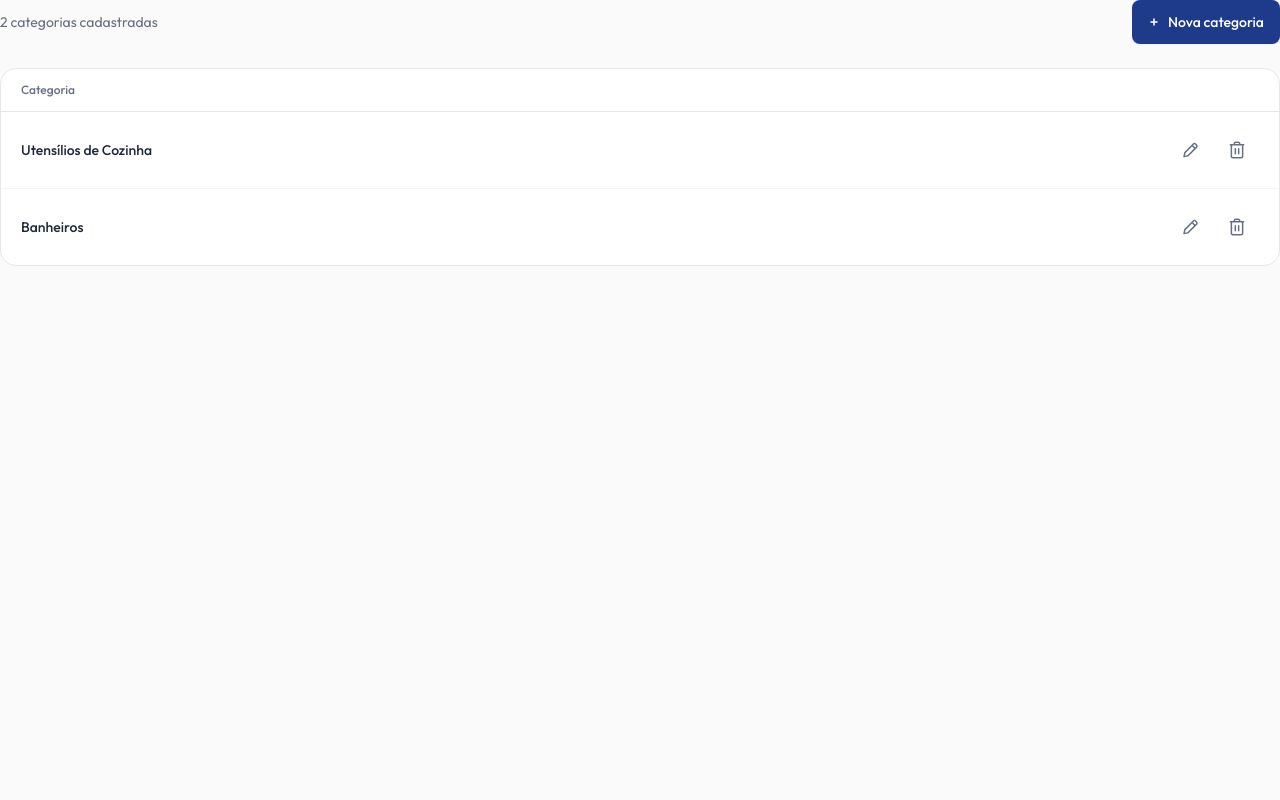
Test: CategoryAdminPanel › renames the category in the api and shows the saved name when reopened
This screenshot has width=1280, height=800.
Click the button named "Editar Banheiros": (1189, 227) [1167,205,1211,249]
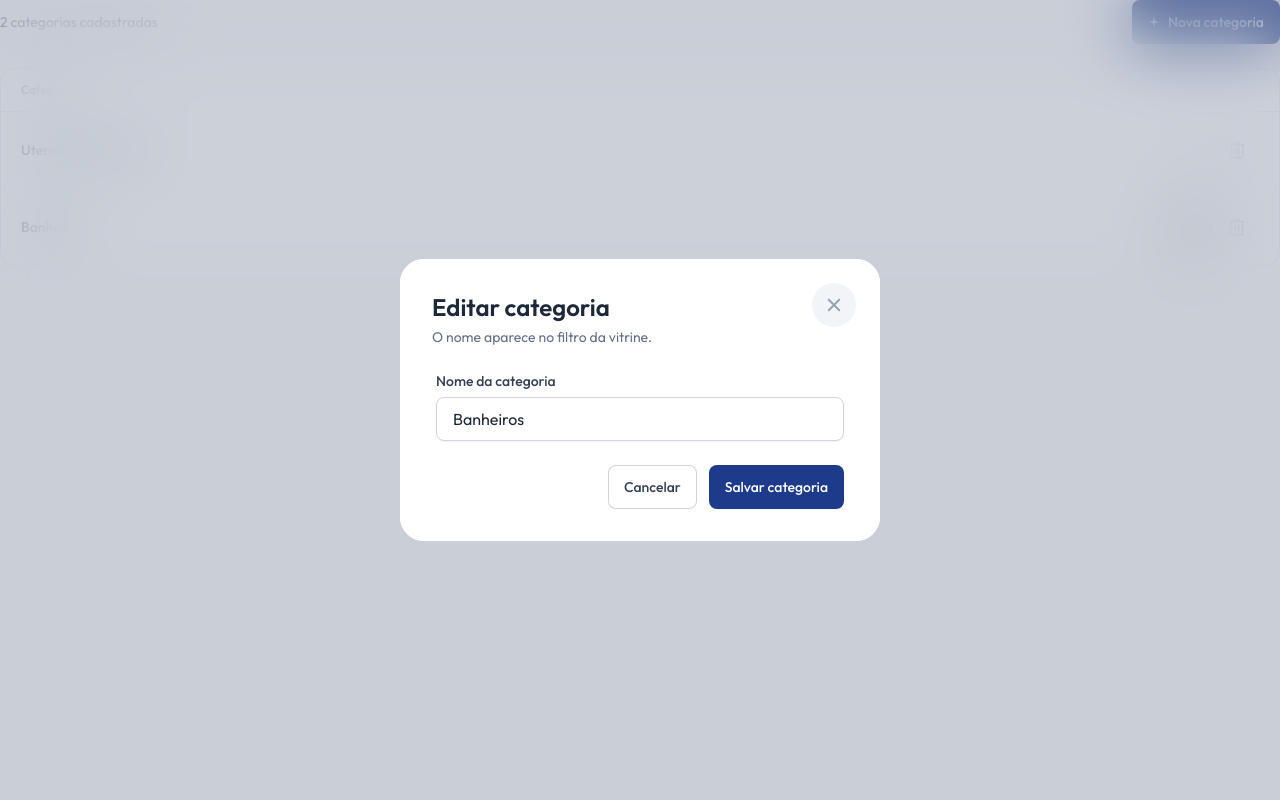
Replace the text in the field labelled "Nome da categoria" with "Banheiro e Lavabo": (640, 419) [436,397,844,441]
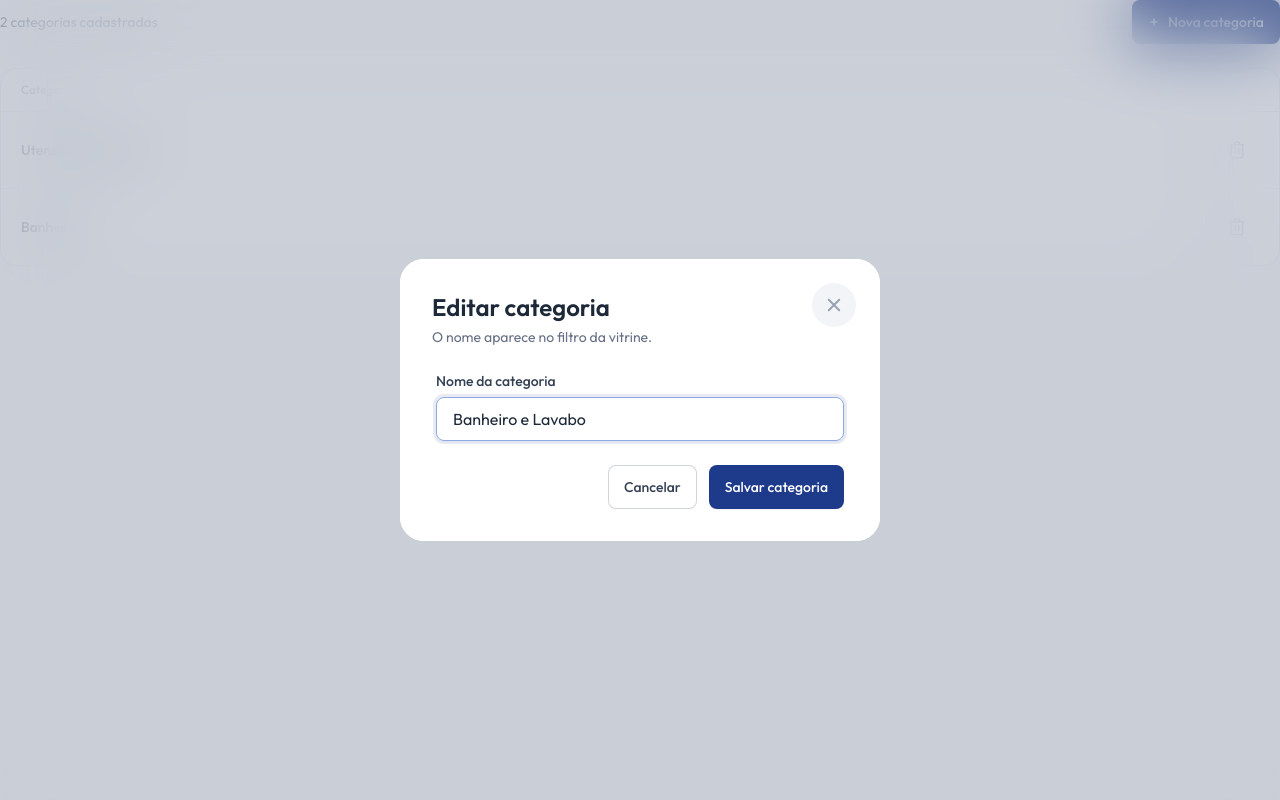
Click the button "Salvar categoria": (776, 487) [709,465,844,509]
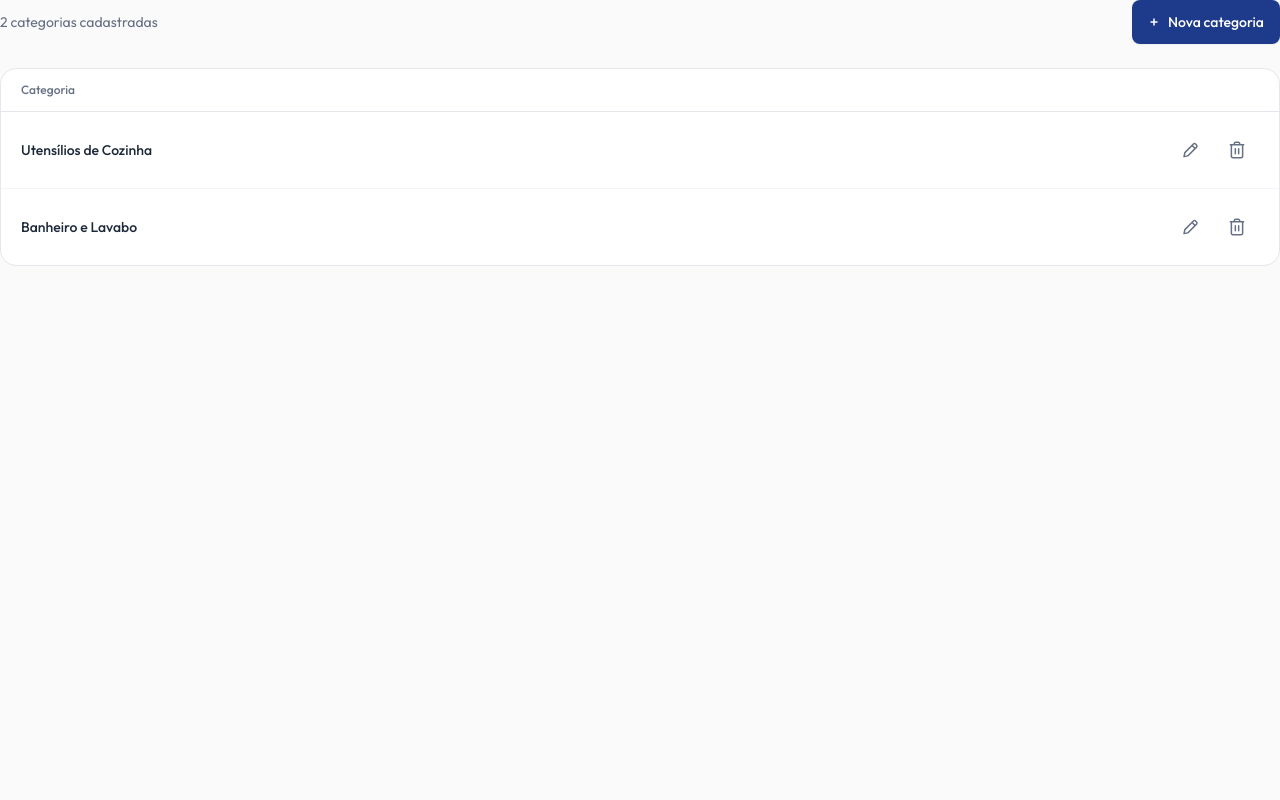
Check: the text "Banheiro e Lavabo" is shown, box [1,188,722,265]
Check: the text "Banheiros" is gone
Click the button named "Editar Banheiro e Lavabo": (1189, 227) [1167,205,1211,249]
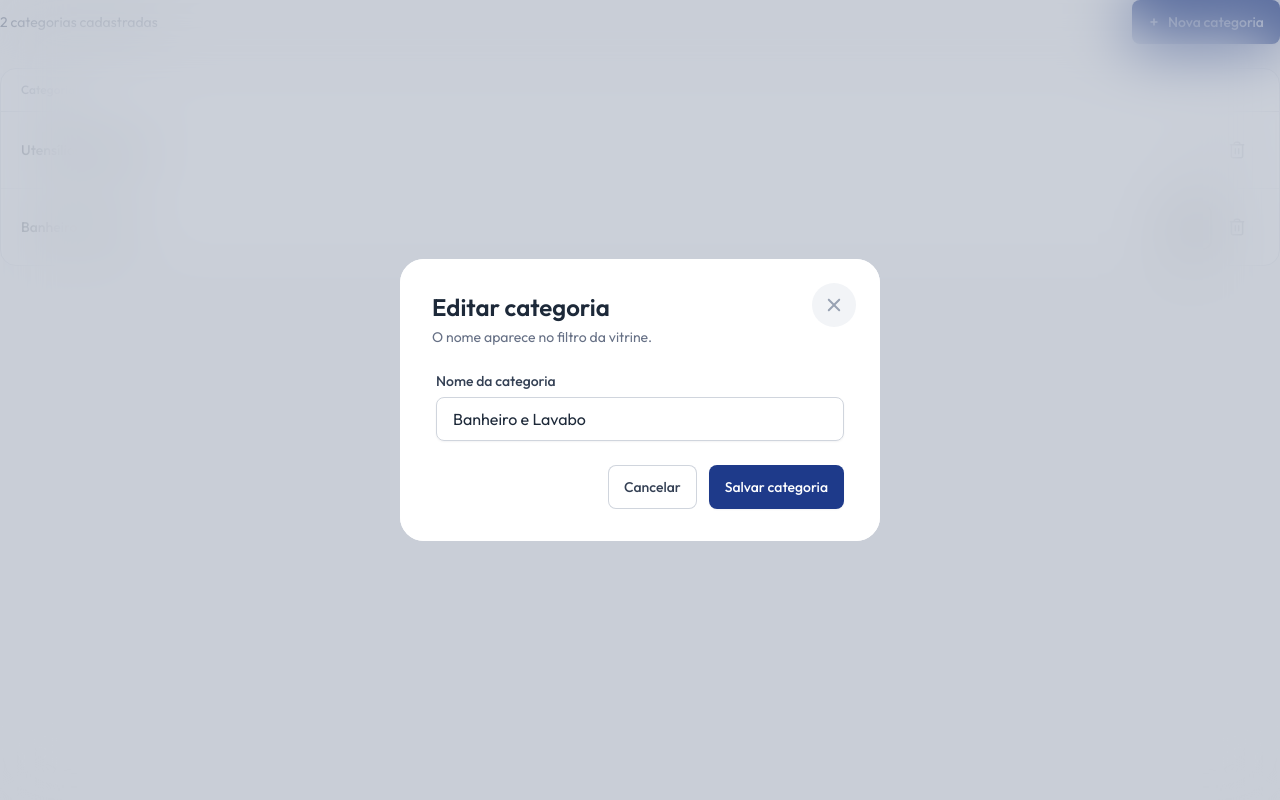
Check: the field labelled "Nome da categoria" holds "Banheiro e Lavabo", box [436,397,844,441]
